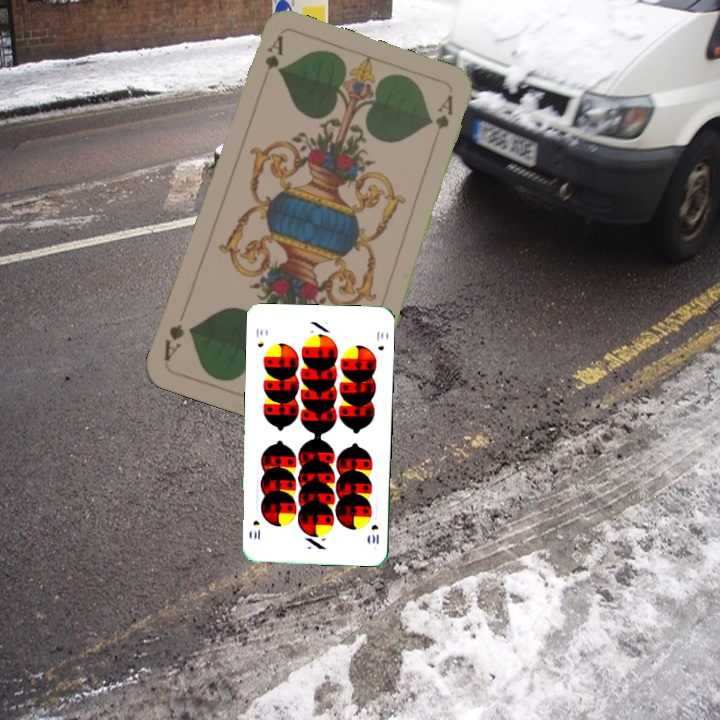GA: (258, 32, 286, 89)
S10: (367, 520, 381, 547), (252, 325, 266, 350)
